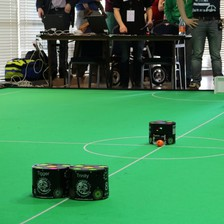ball: (155, 137, 164, 147)
goal: (210, 73, 223, 94)
robot: (68, 162, 111, 201), (29, 161, 68, 200), (145, 118, 176, 146)
